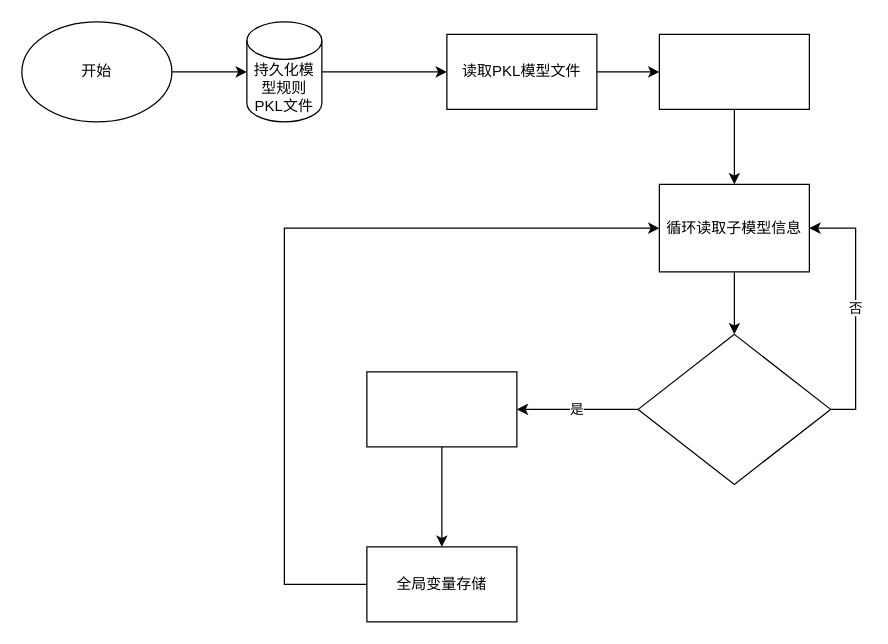
This 888x644 diagram has some shape labels left out. The centre of each missing label's shape, as x and y in pixels:
传入流日志信息，执行模型识别函数: (733,71)
根据子模型判断上下文规则是否符合: (734,408)
根据模型规则识别当前流日志信息: (441,409)
